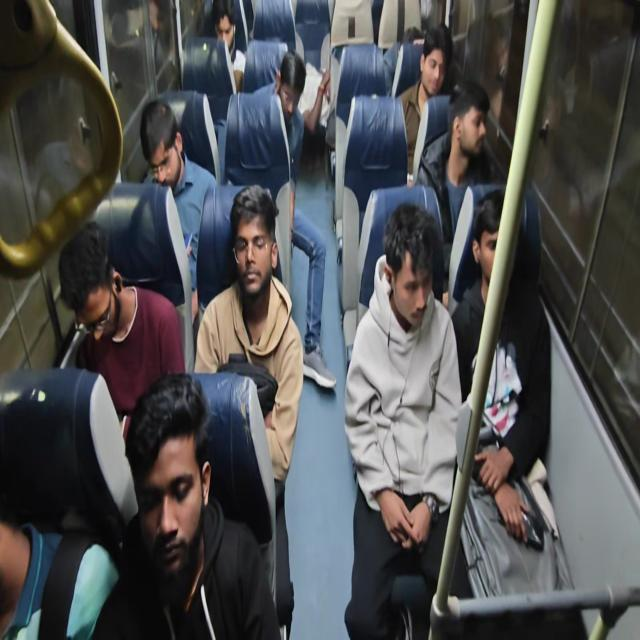person: (128, 390, 210, 583), (46, 221, 130, 345), (384, 193, 436, 349), (228, 183, 279, 303), (469, 192, 520, 302), (448, 80, 503, 172), (0, 431, 26, 583), (138, 106, 182, 194), (277, 39, 310, 132), (424, 24, 453, 106), (203, 0, 242, 54), (391, 24, 427, 55)
